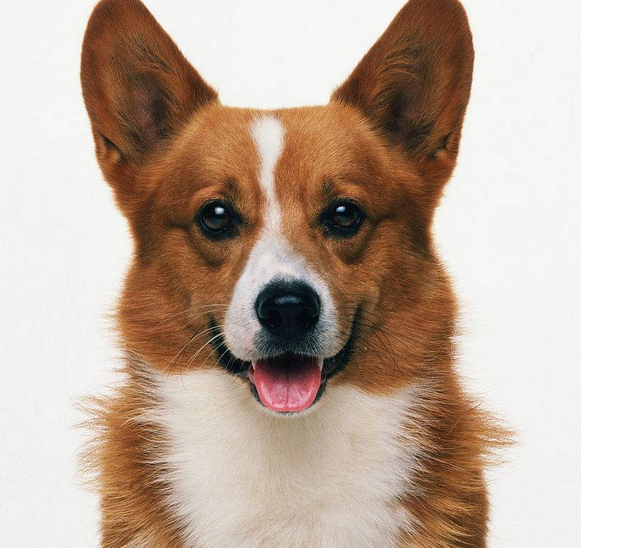nose: (252, 278, 327, 343)
